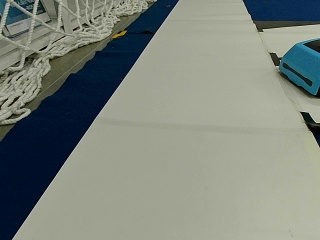car: (280, 37, 319, 95)
